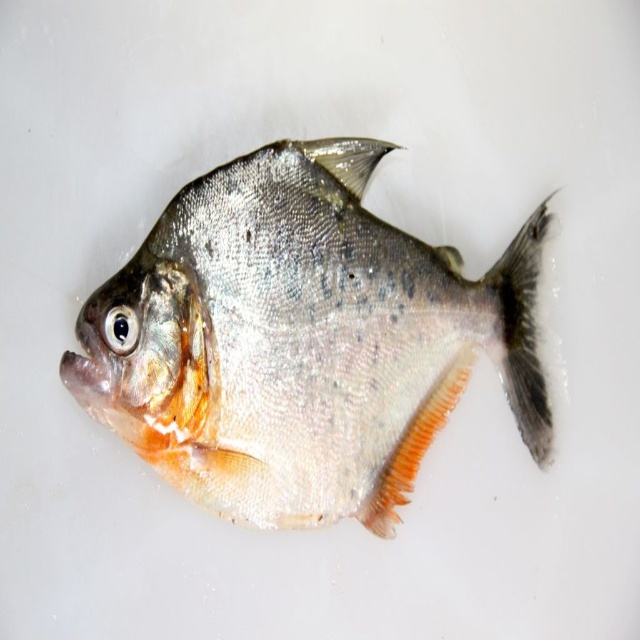Fish: (75, 156, 548, 560)
